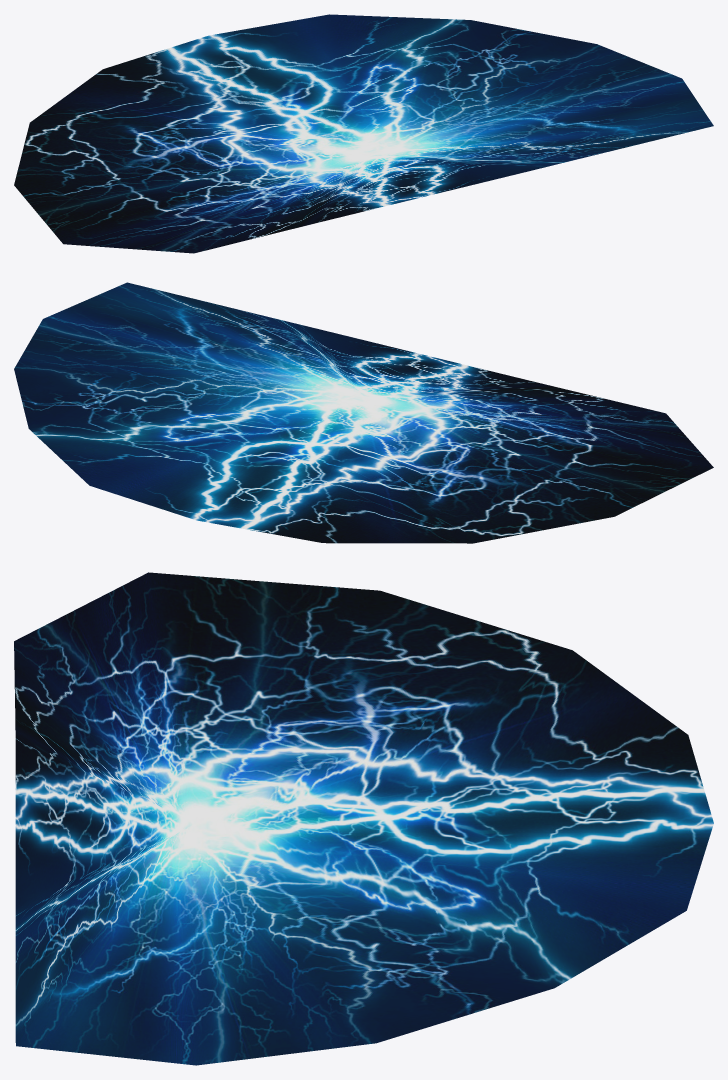
The model's file is PlasmaPool.fbx.
3 views of the same model, one above another, from view 1: azimuth 30°, elevation 25°; view 2: azimuth 150°, elevation 25°; view 3: azimuth 270°, elevation 25° (orthographic). The views are drawn at different scales.
Visible parts, largest first — view 1: mesh_FountainWater4; view 2: mesh_FountainWater4; view 3: mesh_FountainWater4.
Part boxes in pixels (x1,y1,x2,y2): mesh_FountainWater4: [14, 14, 713, 253]; mesh_FountainWater4: [14, 282, 713, 543]; mesh_FountainWater4: [14, 572, 713, 1065].
Bounding box in the file's own units: 5.33 × 0.00422 × 3.2.
Materials: 1 (1 with a texture image).
